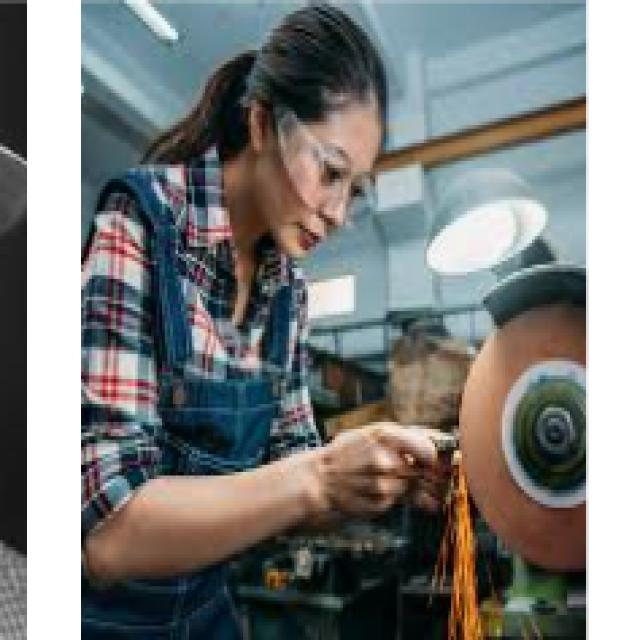glasses: (272, 106, 379, 205)
